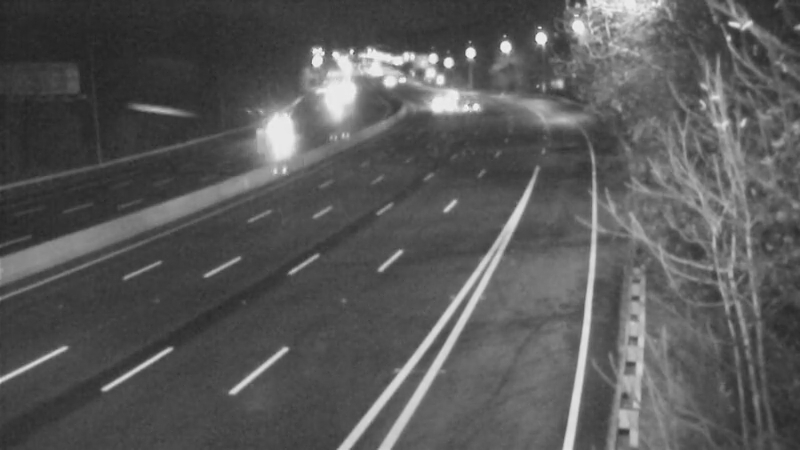vehicle: (421, 67, 471, 117), (413, 77, 463, 127), (447, 82, 497, 132), (257, 105, 307, 155)
